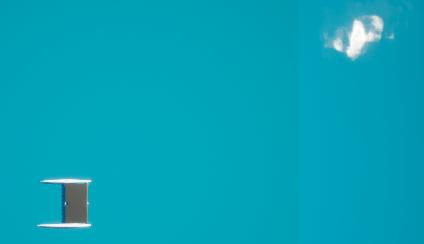boat: (38, 176, 93, 233)
drone: (66, 184, 87, 223)
land_base: (311, 1, 401, 74)
